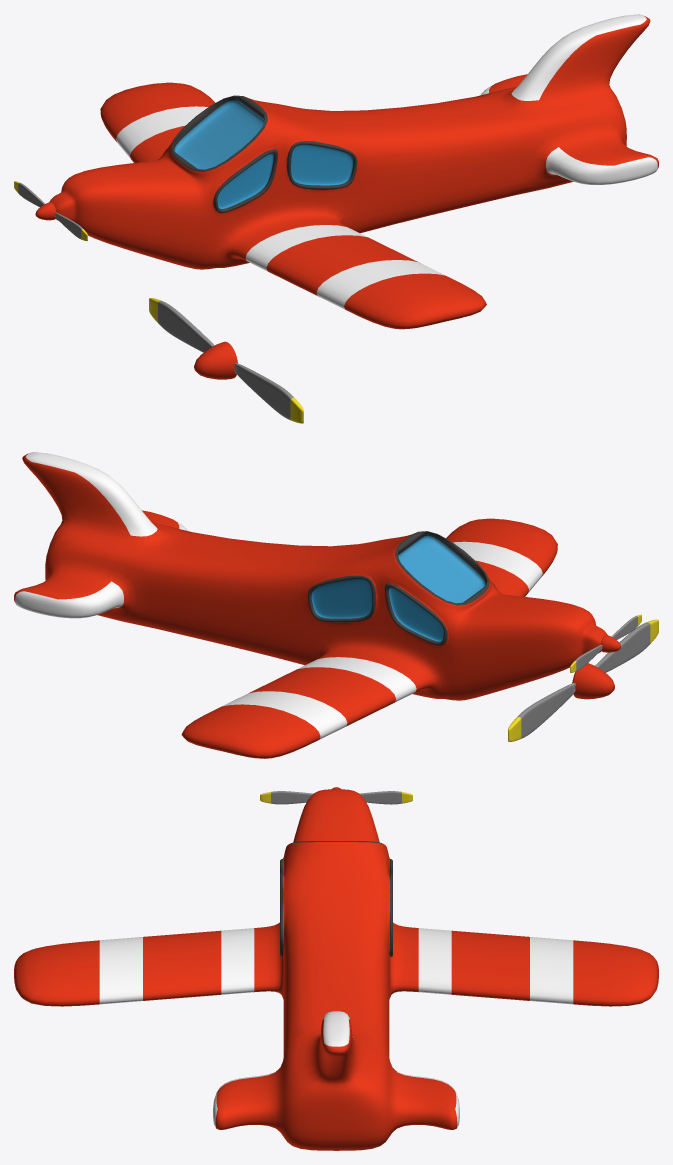
Rendered from styloo-planesty-001.glb.
3 views of the same model, one above another, from view 1: azimuth 30°, elevation 25°; view 2: azimuth 150°, elevation 25°; view 3: azimuth 270°, elevation 25° (orthographic). The views are drawn at different scales.
Visible parts, largest first — view 1: Cube.014, Cube.009, Cube.015; view 2: Cube.014, Cube.009, Cube.015; view 3: Cube.014, Cube.015.
Part boxes in pixels (box(x1,y1,x2,y2)): Cube.014: box(49, 14, 658, 329); Cube.009: box(149, 298, 303, 423); Cube.015: box(14, 181, 87, 241); Cube.014: box(14, 452, 607, 758); Cube.009: box(508, 619, 658, 741); Cube.015: box(570, 614, 641, 672); Cube.014: box(14, 789, 658, 1150); Cube.015: box(260, 787, 412, 804).
Size of the model in its own units: 8.29 by 2.5 by 7.29.
Materials: 1 (1 with a texture image).
